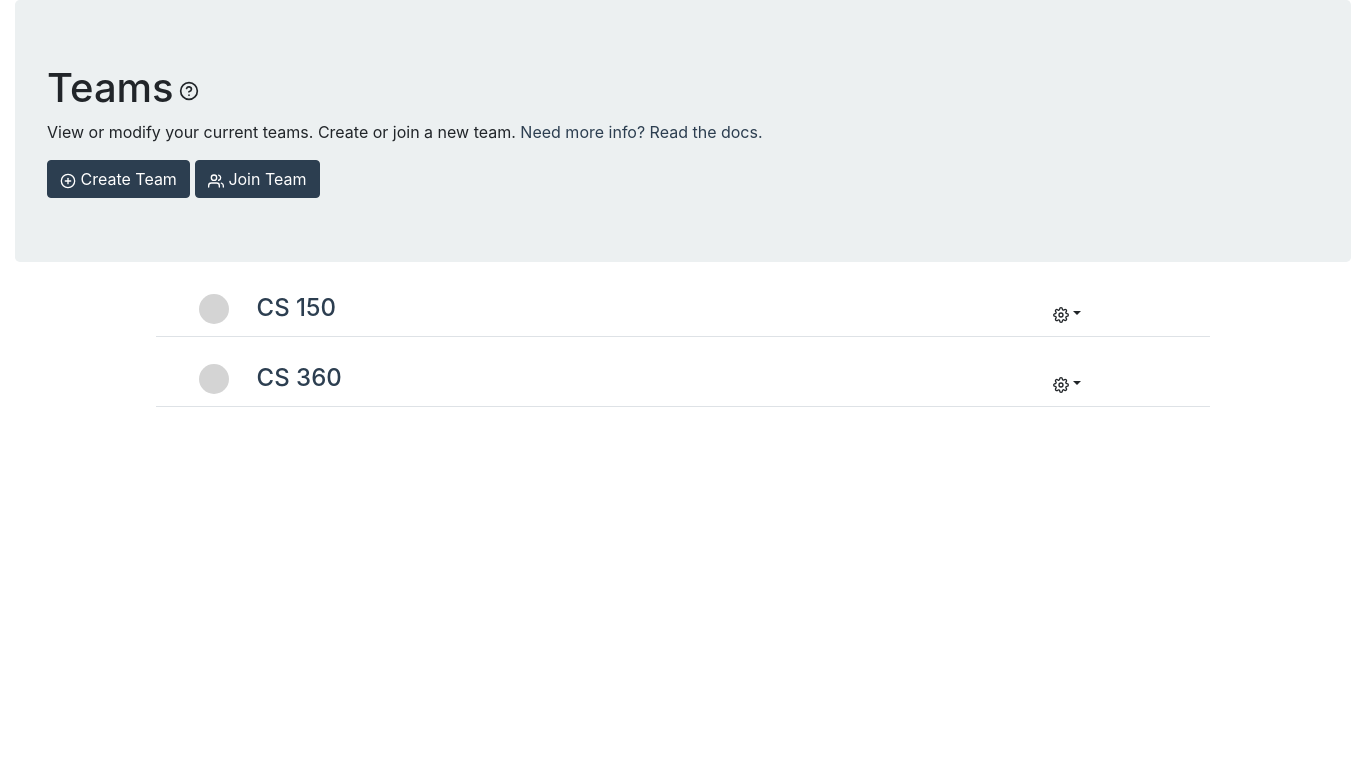
Test: Tests with successful API data › Team creation is successful
The width and height of the screenshot is (1366, 768).
Step 1. Click the button "Create Team" → (118, 179), box [47, 160, 190, 198]
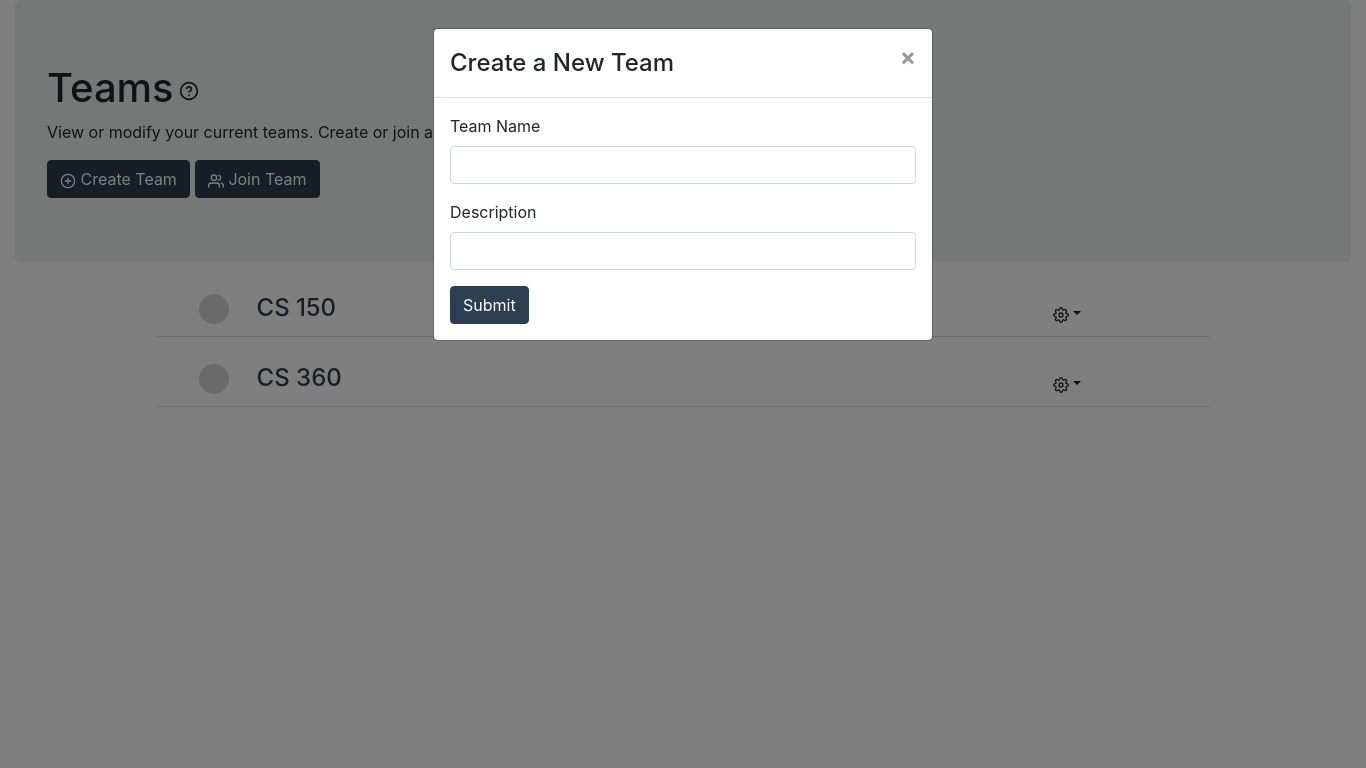
Expected: the text "Team Name" is shown, [450, 114, 540, 138]
Step 2. Type "CS Students" into the field labelled "Team Name" → (683, 165), box [450, 146, 916, 184]
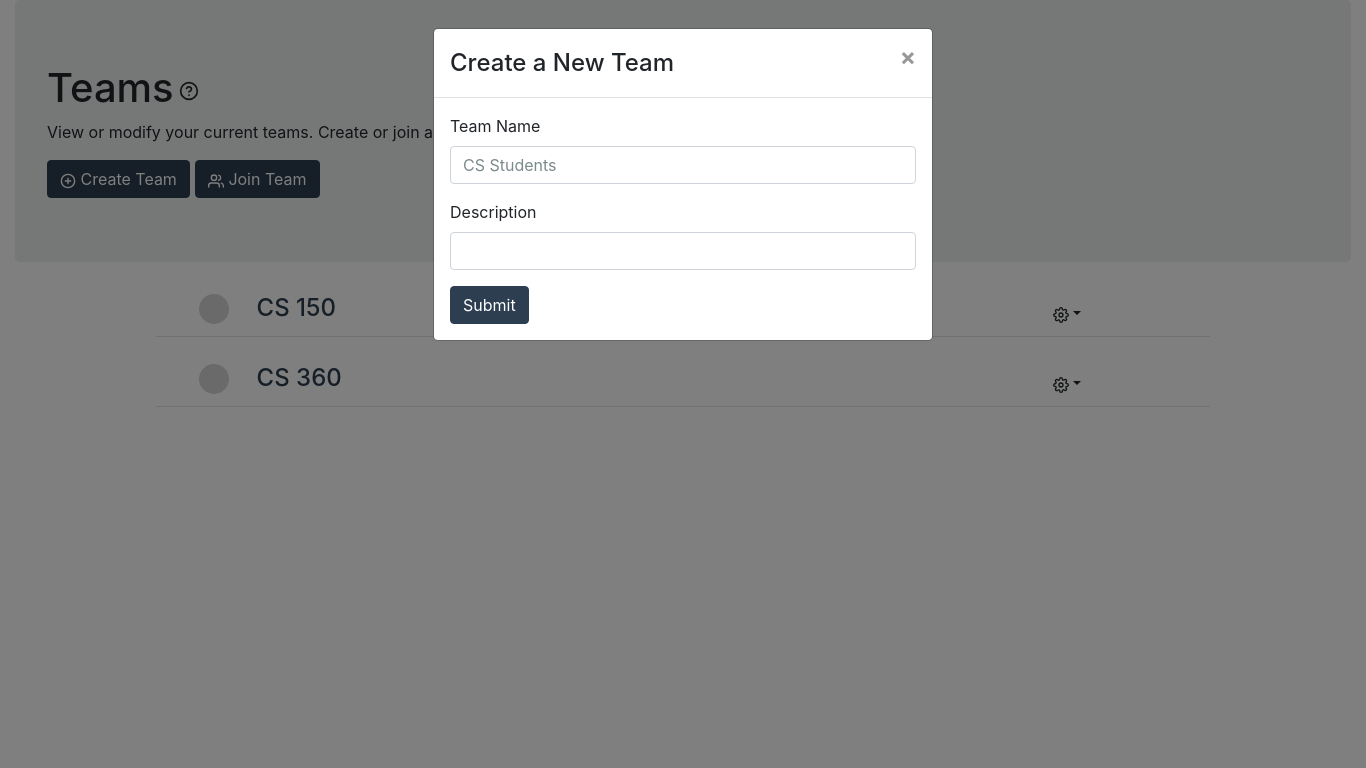
Step 3. Type "A group for all comp sci students at Luther" into the field labelled "Description" → (683, 251), box [450, 232, 916, 270]
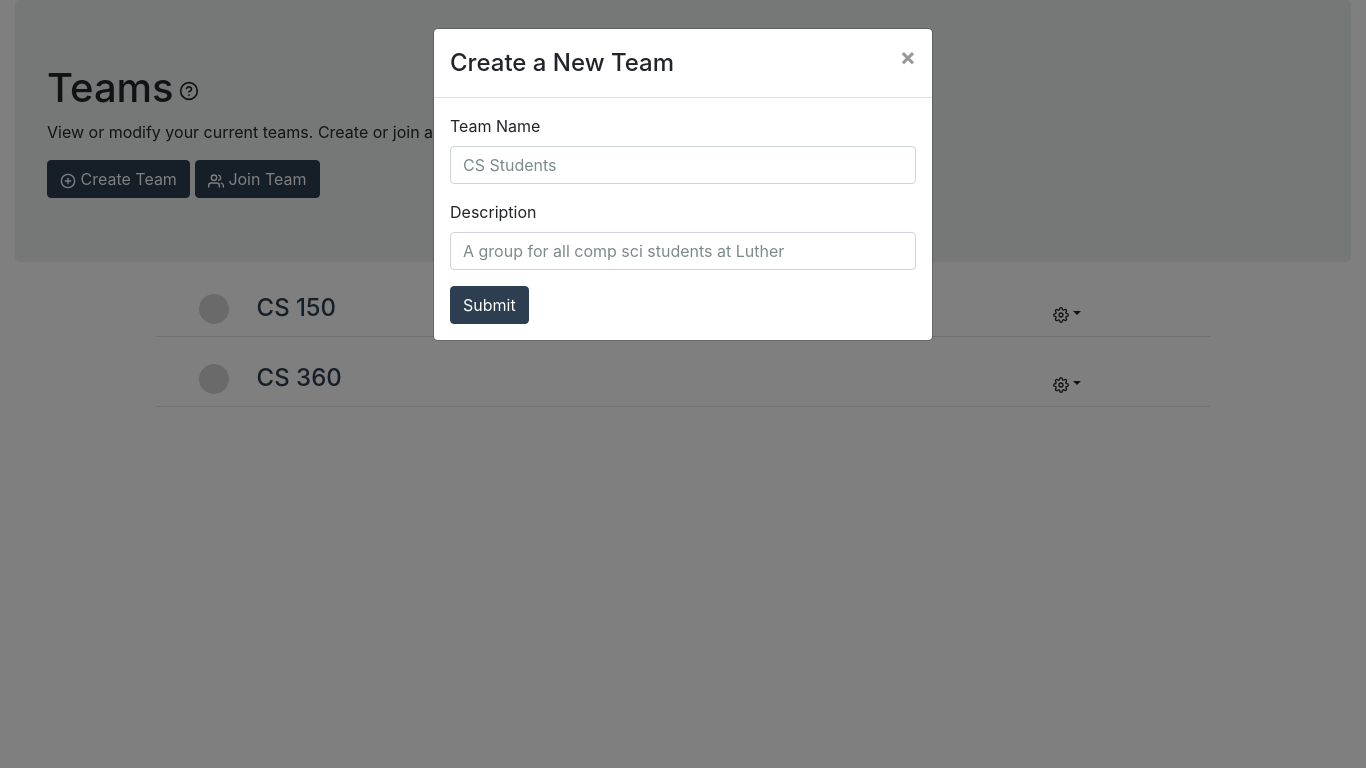
Step 4. Click the button "Submit" → (489, 305), box [450, 286, 529, 324]
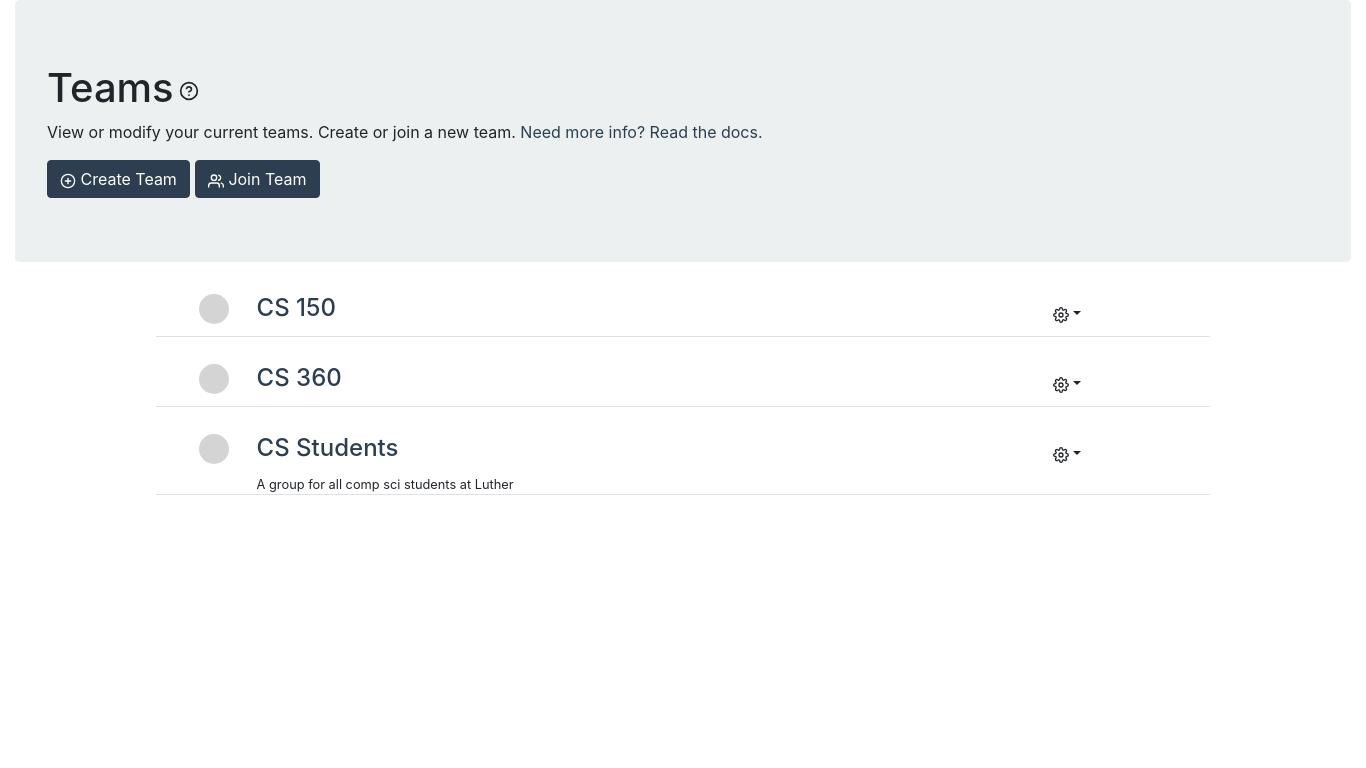
Expected: the link "CS Students" is shown, [257, 433, 398, 462]
